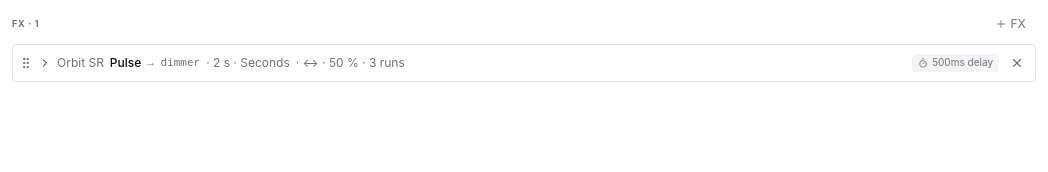
Test: the FX tab › opens a row’s editor only once the effect library has, so Seconds is read from it
The image size is (1048, 172).
Click the button with aria-label "Open Pulse" at (80, 62), box [39, 55, 906, 71]
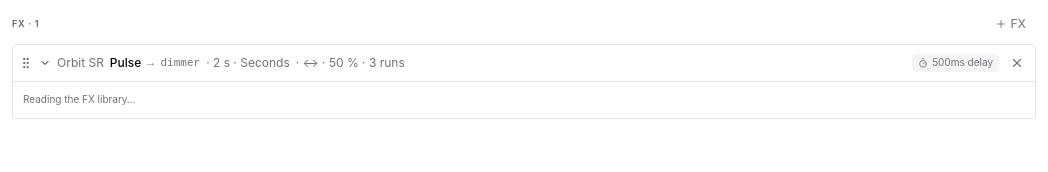
expect the text "Reading the FX library…" is shown: met, box [23, 93, 135, 105]
